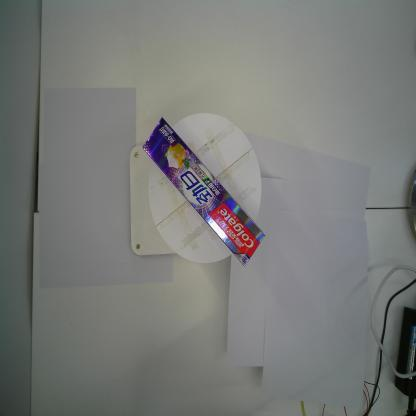Personal Hygiene: (142, 115, 265, 270)
